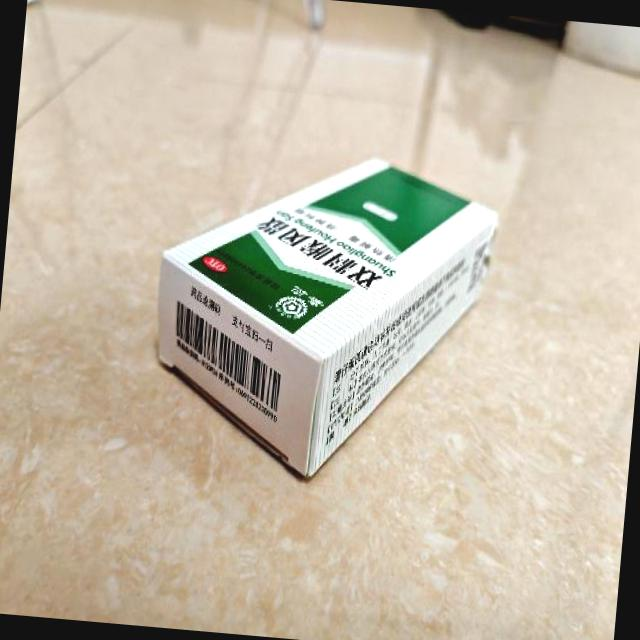box: (142, 139, 503, 490)
